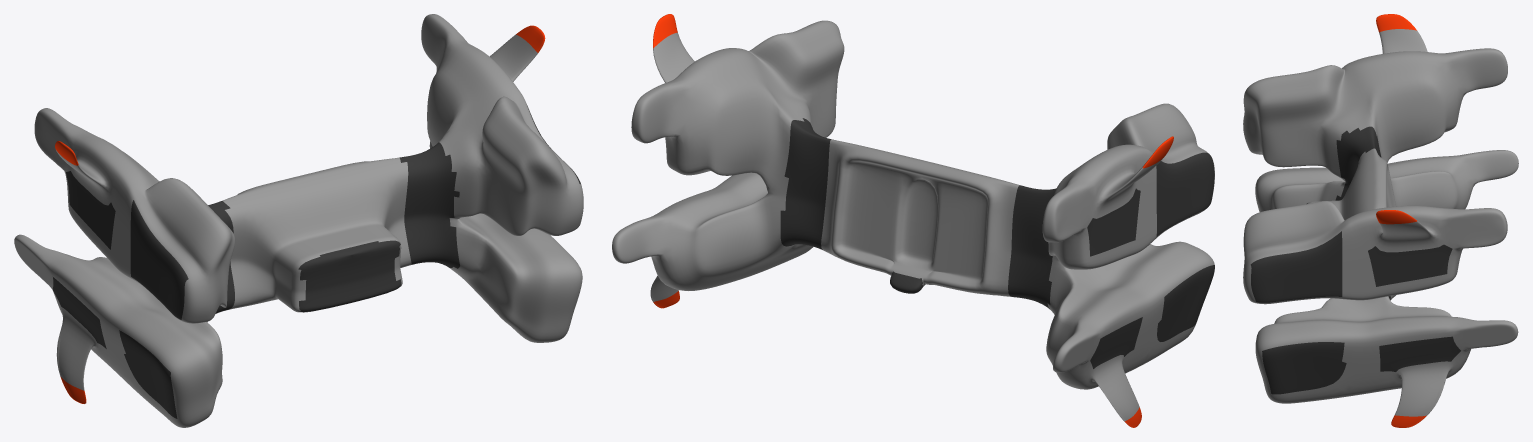
Rendered from Modular_Wings_02.FBX.
3 renders of one model, left to right at view 1: azimuth 30°, elevation 25°; view 2: azimuth 150°, elevation 25°; view 3: azimuth 270°, elevation 25°, orthographic. The views are drawn at different scales.
Visible parts, largest first — view 1: Wings_01; view 2: Wings_01; view 3: Wings_01.
Boxes of the visible parts, x1=… form: Wings_01: x1=14, y1=14, x2=583, y2=427; Wings_01: x1=612, y1=14, x2=1214, y2=427; Wings_01: x1=1243, y1=14, x2=1518, y2=427.
Size of the model in its own units: 111 by 59.88 by 66.01.
